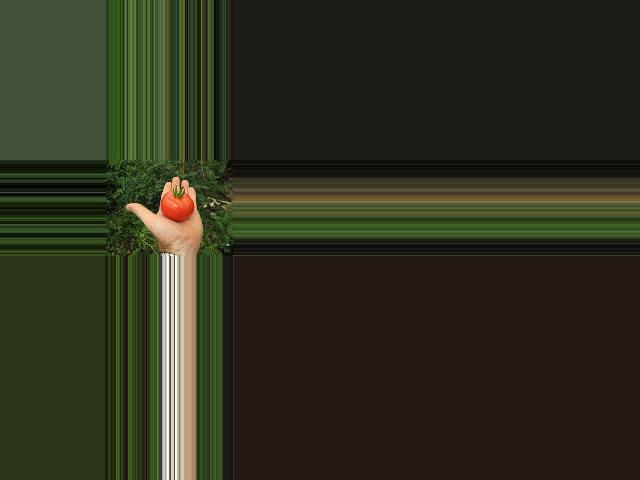tomato: (160, 191, 195, 221)
